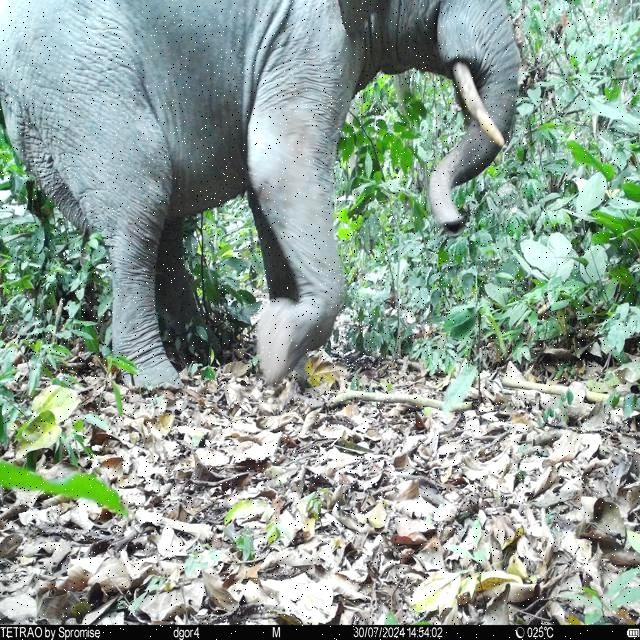elephant: (0, 1, 520, 393)
tusk: (452, 60, 506, 146)
